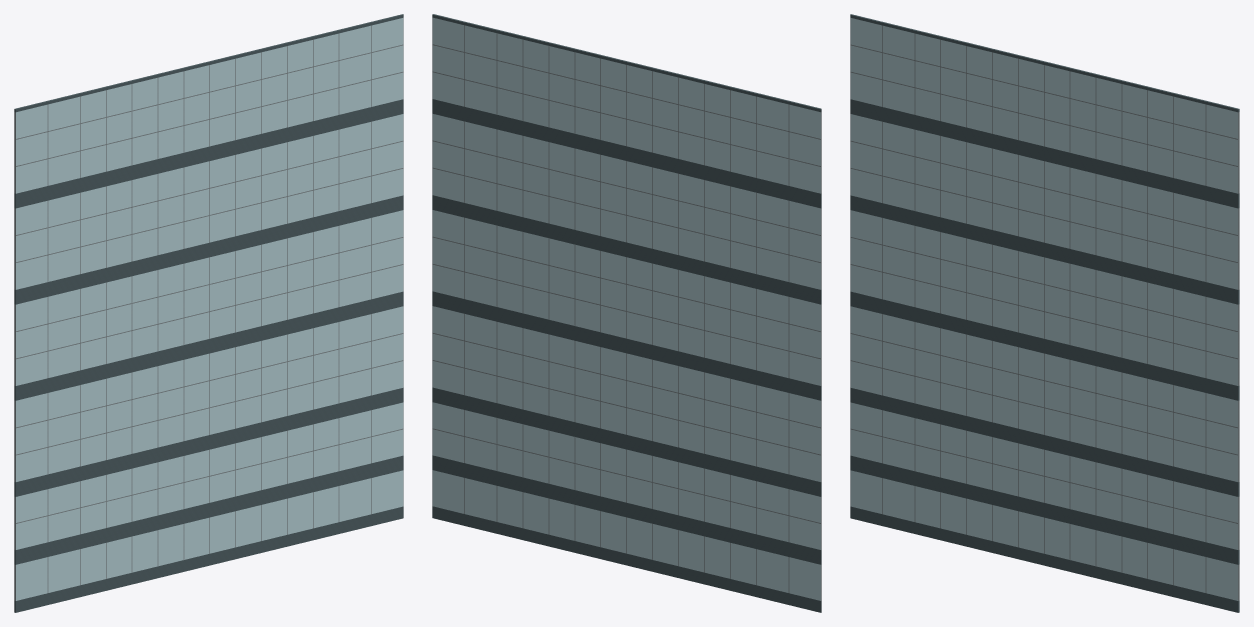
File: G7_Completion_Prior_G7_MiddleExteriorSkin_E15_r001.glb
3 views of the same model, side by side, from view 1: azimuth 30°, elevation 25°; view 2: azimuth 150°, elevation 25°; view 3: azimuth 330°, elevation 25° (orthographic).
Visible parts, largest first — view 1: G7_MiddleSkin_E15_glazing, G7_MiddleSkin_E15_spandrel, G7_MiddleSkin_E15_joint; view 2: G7_MiddleSkin_E15_glazing, G7_MiddleSkin_E15_spandrel, G7_MiddleSkin_E15_joint; view 3: G7_MiddleSkin_E15_glazing, G7_MiddleSkin_E15_spandrel, G7_MiddleSkin_E15_joint.
Boxes of the visible parts, <box> form: G7_MiddleSkin_E15_glazing: <box>16,18,403,600</box>; G7_MiddleSkin_E15_spandrel: <box>14,14,403,612</box>; G7_MiddleSkin_E15_joint: <box>14,18,403,600</box>; G7_MiddleSkin_E15_glazing: <box>432,17,820,600</box>; G7_MiddleSkin_E15_spandrel: <box>432,14,821,612</box>; G7_MiddleSkin_E15_joint: <box>432,18,821,600</box>; G7_MiddleSkin_E15_glazing: <box>850,18,1237,600</box>; G7_MiddleSkin_E15_spandrel: <box>850,14,1239,612</box>; G7_MiddleSkin_E15_joint: <box>850,18,1239,600</box>.
Size of the model in its own units: 35.99 by 44.5 by 0.16.
3 materials, 2 textured.
